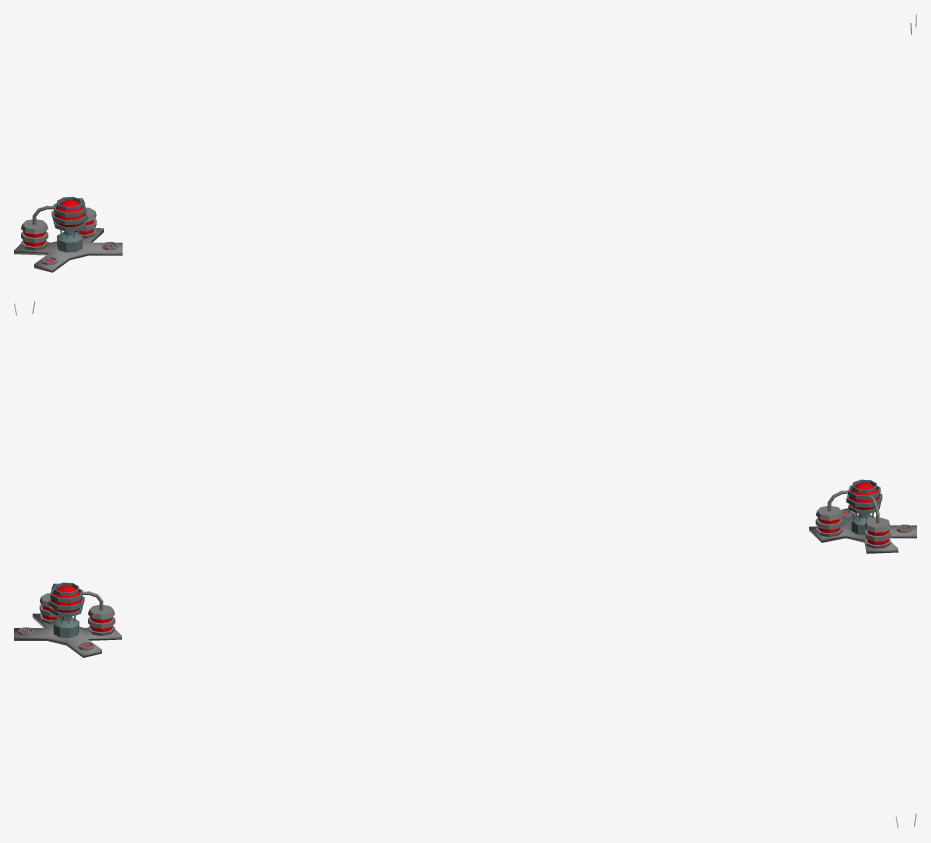
Rendered from Machine.fbx.
3 views of the same model, one above another, from view 1: azimuth 30°, elevation 25°; view 2: azimuth 150°, elevation 25°; view 3: azimuth 330°, elevation 25° (orthographic).
Visible parts, largest first — view 1: Cylinder, Cylinder.001, Cylinder.002; view 2: Cylinder.001, Cylinder, Cylinder.002; view 3: Cylinder, Cylinder.001, Cylinder.002.
Boxes of the visible parts, x1,y1,x2,y2 form: Cylinder: [14, 228, 122, 272]; Cylinder.001: [21, 198, 96, 250]; Cylinder.002: [54, 199, 85, 252]; Cylinder.001: [815, 490, 891, 548]; Cylinder: [809, 508, 916, 553]; Cylinder.002: [849, 482, 879, 534]; Cylinder: [14, 613, 121, 657]; Cylinder.001: [39, 583, 115, 635]; Cylinder.002: [51, 585, 81, 637].
Size of the model in its own units: 4777 by 256 by 352.
